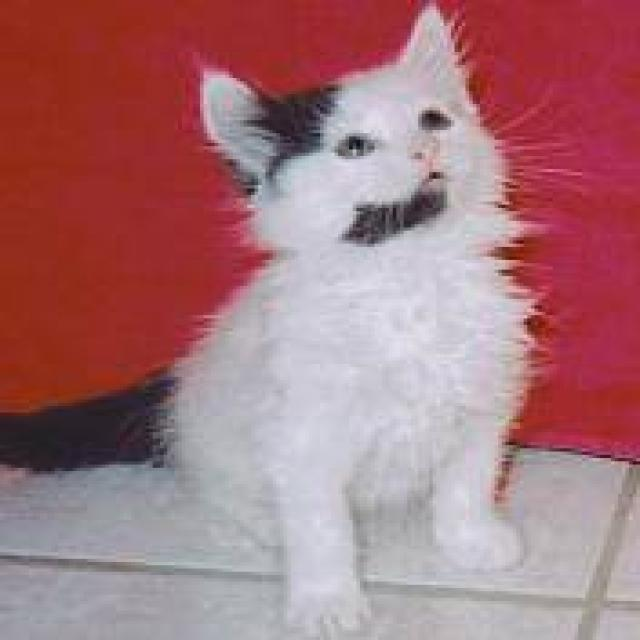cat: (0, 0, 549, 637)
